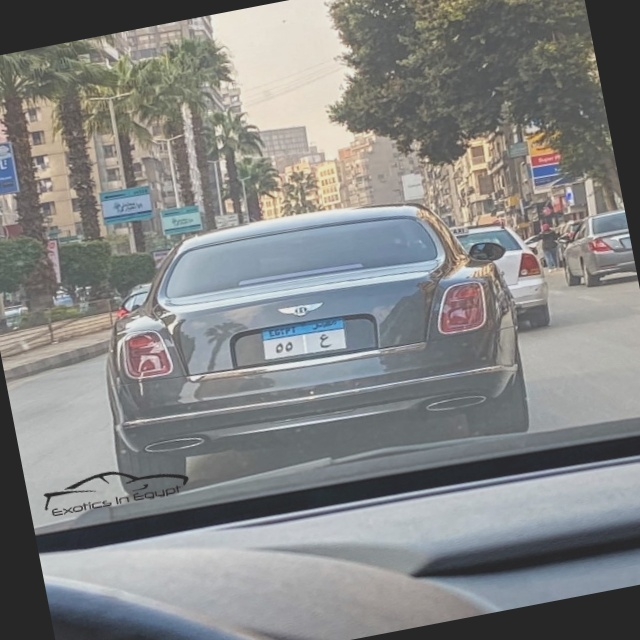License Plate: (256, 313, 352, 365)
